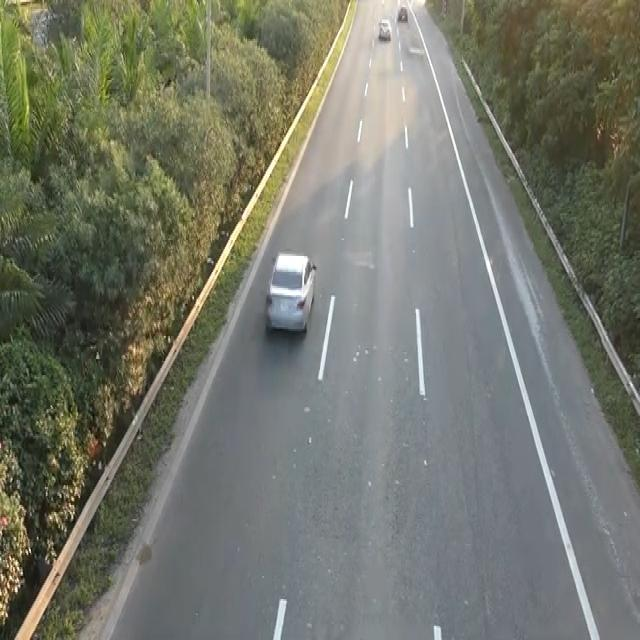bus: (263, 247, 318, 336), (396, 4, 408, 23)
